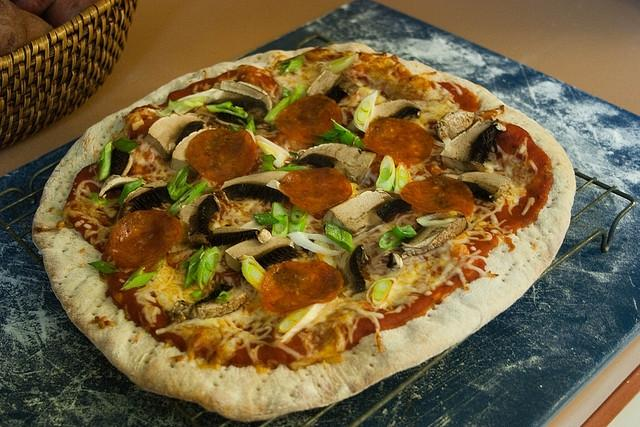green onion: (276, 302, 328, 343), (156, 88, 224, 117), (166, 180, 208, 216), (255, 135, 292, 168), (192, 247, 220, 290), (98, 174, 144, 200), (352, 90, 378, 132), (332, 119, 366, 150), (180, 245, 203, 290), (366, 277, 397, 309), (241, 254, 266, 293), (120, 265, 158, 290), (324, 220, 353, 252), (262, 154, 308, 172), (376, 154, 396, 192), (206, 102, 249, 119), (264, 96, 292, 122), (167, 168, 189, 200), (320, 54, 354, 74), (118, 178, 144, 204), (271, 201, 289, 238), (393, 163, 411, 194), (99, 142, 112, 184), (278, 55, 304, 75), (372, 280, 392, 305), (86, 261, 122, 274), (237, 113, 256, 136), (379, 230, 403, 248), (392, 224, 418, 240), (252, 212, 280, 226), (314, 128, 346, 140), (290, 85, 308, 105), (291, 210, 308, 224), (288, 222, 305, 234), (92, 192, 107, 204)
mushroom: (322, 190, 412, 238), (291, 143, 377, 186), (204, 78, 272, 130), (400, 216, 470, 260), (441, 118, 506, 164), (144, 113, 207, 160), (225, 236, 307, 272), (348, 99, 422, 138), (172, 283, 248, 320), (116, 180, 178, 222), (220, 170, 290, 206), (438, 172, 511, 202), (170, 126, 217, 170), (306, 70, 360, 104), (434, 110, 475, 147), (98, 174, 147, 201), (348, 244, 365, 292), (110, 148, 132, 176), (212, 112, 248, 125), (215, 117, 245, 128)
